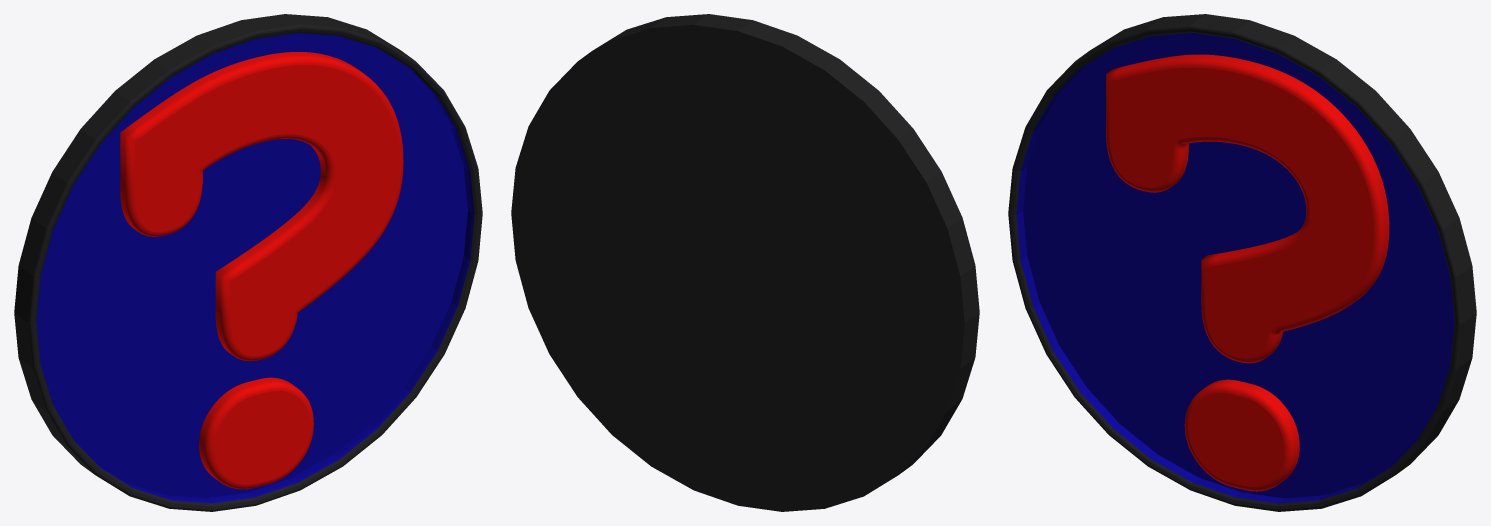
File: placeholder.glb
3 renders of one model, left to right at view 1: azimuth 30°, elevation 25°; view 2: azimuth 150°, elevation 25°; view 3: azimuth 330°, elevation 25°, orthographic.
Parts seen in each view (by area): view 1: Cylinder, Text; view 2: Cylinder; view 3: Cylinder, Text.
Boxes of the visible parts, x1,y1,x2,y2 form: Cylinder: (14,14,482,511); Text: (120,52,403,489); Cylinder: (511,14,979,511); Cylinder: (1008,14,1476,511); Text: (1106,54,1389,491).
Bounding box in the file's own units: 0.7079 × 0.7079 × 0.047.
